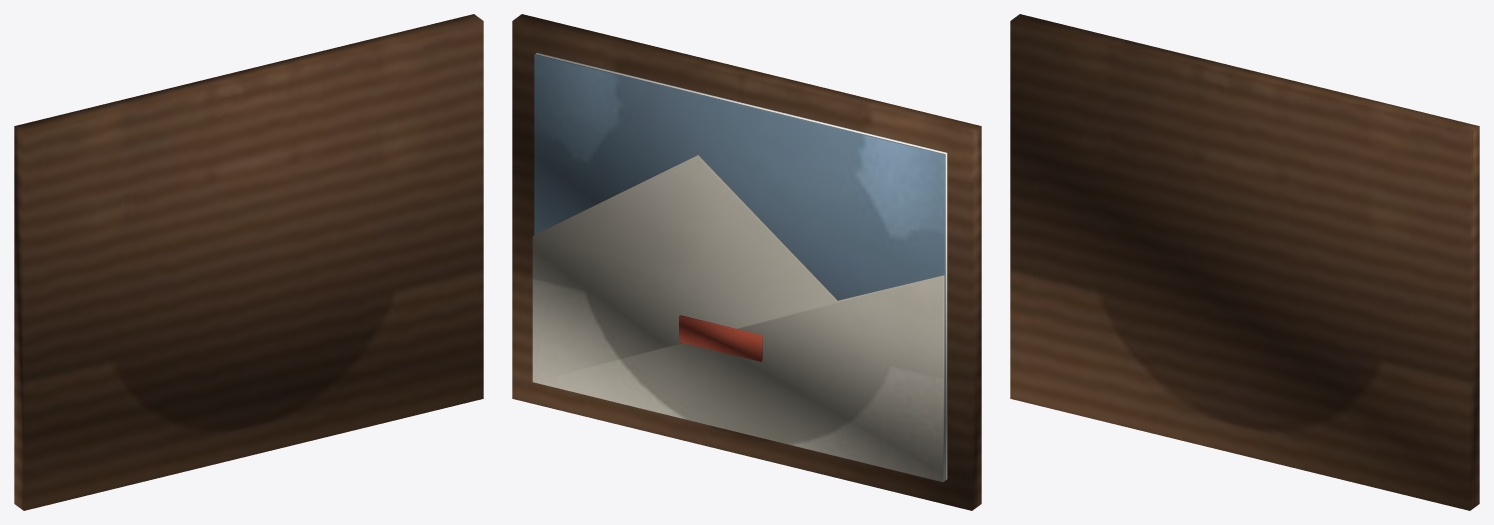
Rendered from picture_mountain.glb.
3 views of the same model, side by side, from view 1: azimuth 30°, elevation 25°; view 2: azimuth 150°, elevation 25°; view 3: azimuth 330°, elevation 25° (orthographic).
Parts seen in each view (by area): view 1: picture_mountain_wood_dark; view 2: picture_mountain_felt_ivory, picture_mountain_felt_sky, picture_mountain_wood_dark, picture_mountain_felt_red, picture_mountain_paper_white; view 3: picture_mountain_wood_dark.
Boxes of the visible parts, box(x1,y1,x2,y2) form: picture_mountain_wood_dark: box(14, 14, 483, 510); picture_mountain_felt_ivory: box(532, 155, 944, 482); picture_mountain_felt_sky: box(534, 54, 945, 480); picture_mountain_wood_dark: box(512, 14, 981, 510); picture_mountain_felt_red: box(679, 315, 762, 361); picture_mountain_paper_white: box(535, 52, 947, 479); picture_mountain_wood_dark: box(1010, 14, 1479, 510).
Size of the model in its own units: 1.12 by 0.88 by 0.064.
Materials: 5 (4 with a texture image).
